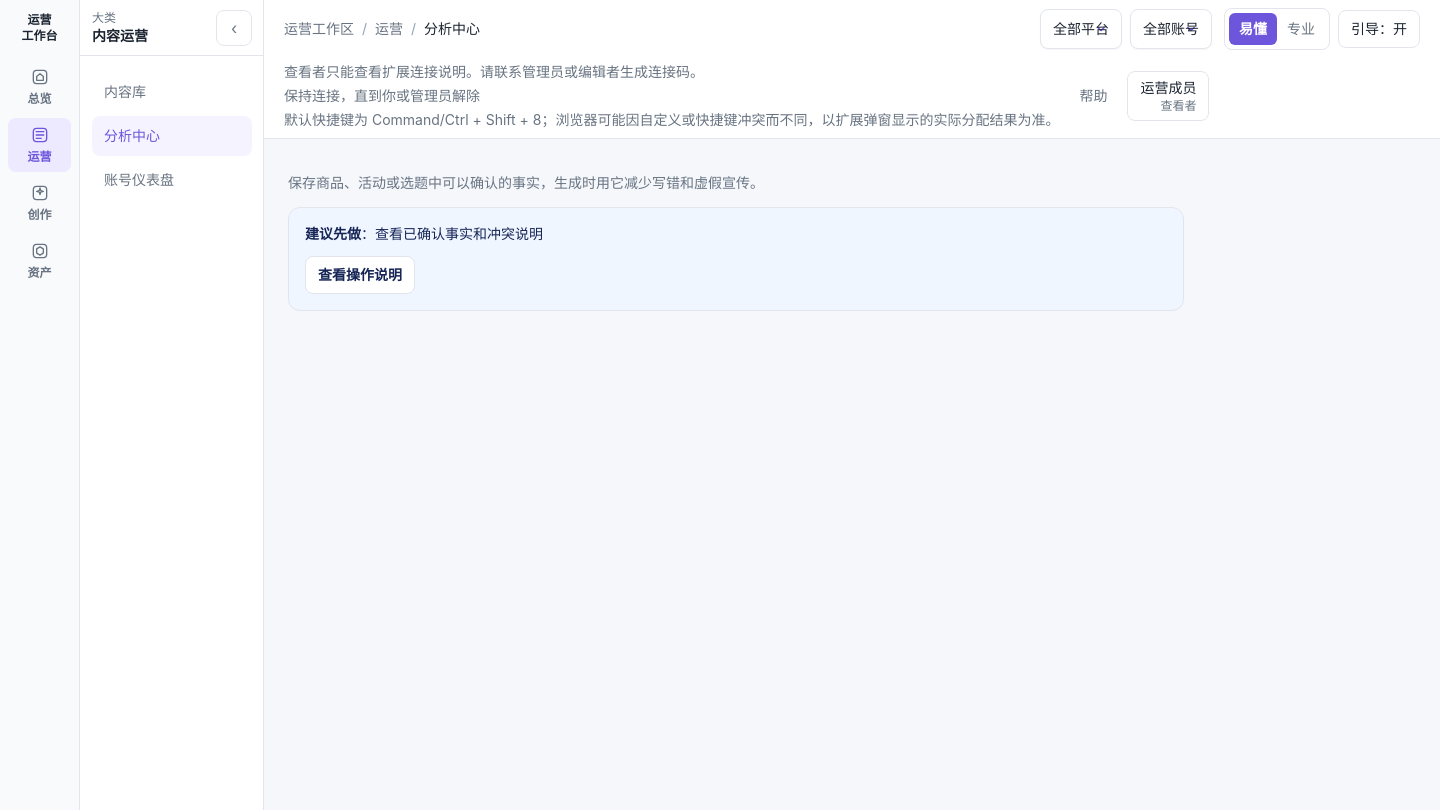
it: keeps the facts safety blocker visible to viewers
Click the button "查看操作说明" at {"x": 360, "y": 275}, box [305,256,415,294]
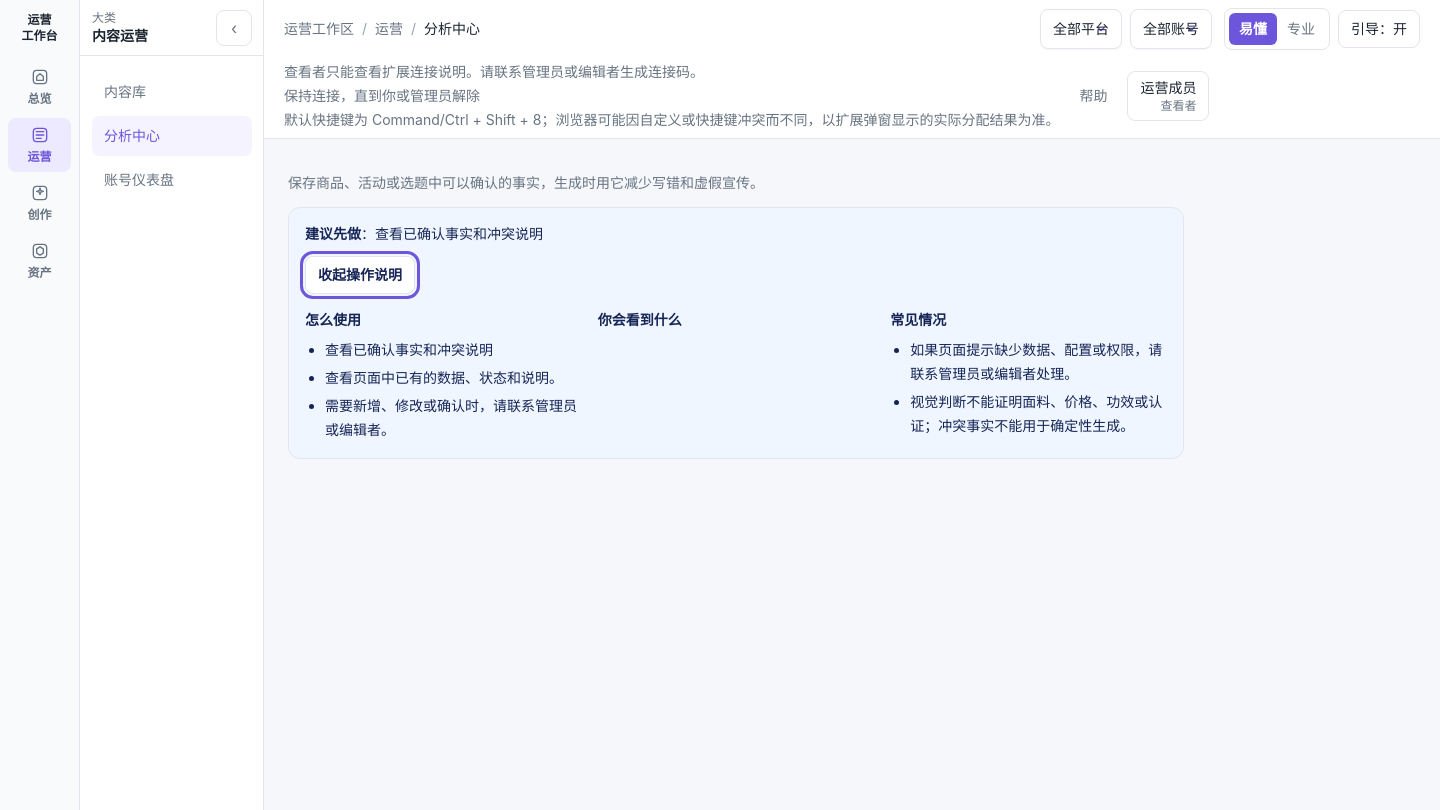
Now the list item "如果页面提示缺少数据、配置或权限，请联系管理员或编辑者处理。" is shown, box [910,338,1167,386]
Now the list item "视觉判断不能证明面料、价格、功效或认证；冲突事实不能用于确定性生成。" is shown, box [910,390,1167,438]
